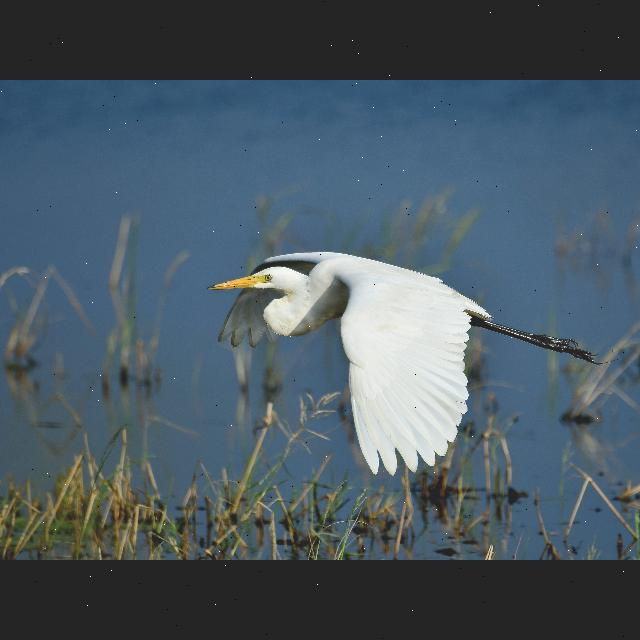egret: (201, 243, 613, 475)
